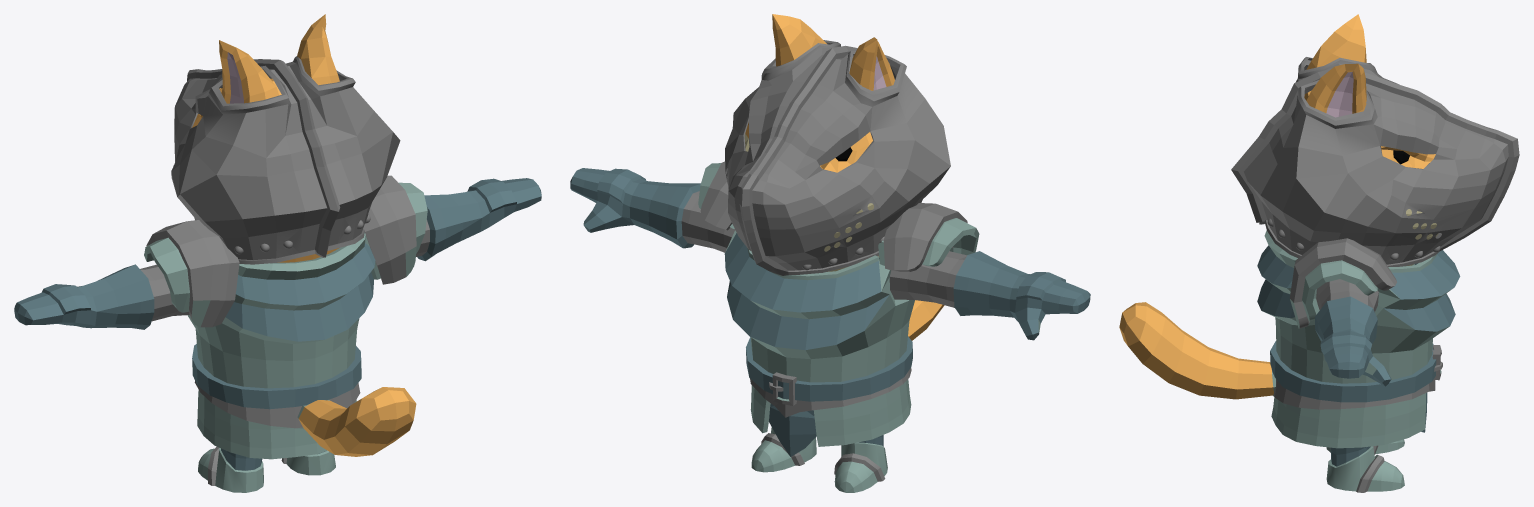
File: Base_Armor_1_INT.fbx
3 views of the same model, side by side, from view 1: azimuth 30°, elevation 25°; view 2: azimuth 150°, elevation 25°; view 3: azimuth 270°, elevation 25° (orthographic). The views are drawn at different scales.
Visible parts, largest first — view 1: polySurface1.025, Helmet 1.003; view 2: polySurface1.025, Helmet 1.003; view 3: polySurface1.025, Helmet 1.003.
Boxes of the visible parts, left/top/right/bottom form: polySurface1.025: left=14, top=14, right=541, bottom=492; Helmet 1.003: left=171, top=56, right=400, bottom=264; polySurface1.025: left=570, top=14, right=1090, bottom=492; Helmet 1.003: left=725, top=40, right=950, bottom=275; polySurface1.025: left=1119, top=14, right=1460, bottom=492; Helmet 1.003: left=1231, top=57, right=1519, bottom=266.
Size of the model in its own units: 175 by 143 by 122.
